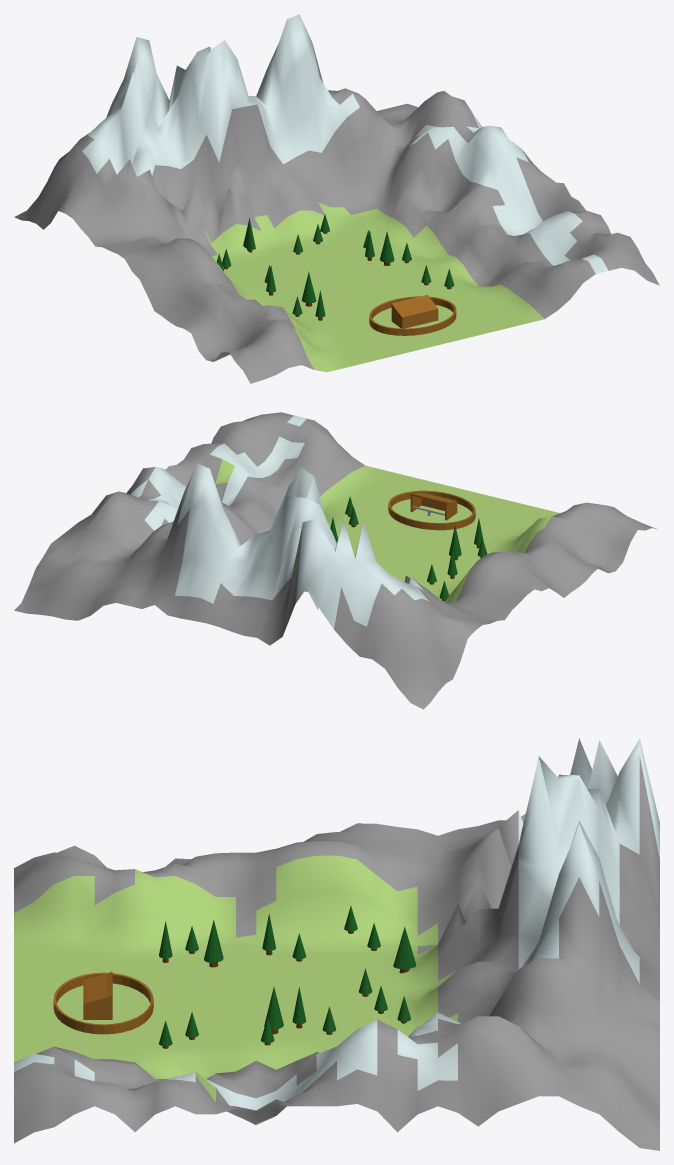
File: Shooting_Mountain.fbx
The picture shows the model from 3 angles, top to bottom: view 1: azimuth 30°, elevation 25°; view 2: azimuth 150°, elevation 25°; view 3: azimuth 270°, elevation 25°; orthographic projection. The views are drawn at different scales.
Visible parts, largest first — view 1: Plane, Cube, Cylinder; view 2: Plane, Cylinder, Cube; view 3: Plane, Cylinder, Cube.
Boxes of the visible parts, x1,y1,x2,y2 form: Plane: (14,14,659,383); Cube: (391,294,438,328); Cylinder: (369,296,456,335); Plane: (14,412,657,709); Cylinder: (388,490,475,530); Cube: (410,492,457,520); Plane: (14,738,659,1150); Cylinder: (53,972,153,1034); Cube: (83,972,112,1019).
Size of the model in its own units: 8580 by 3710 by 8580.
